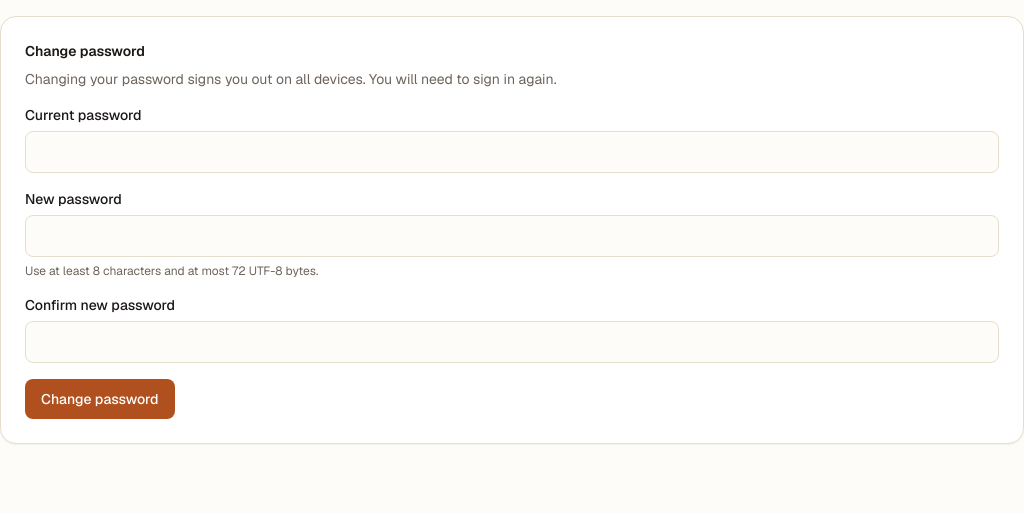
profile password form › validates before submitting (old / short)
The width and height of the screenshot is (1024, 513).
Type "old" into the password field labelled "Current password" at coordinates (512, 152), box [25, 131, 999, 173]
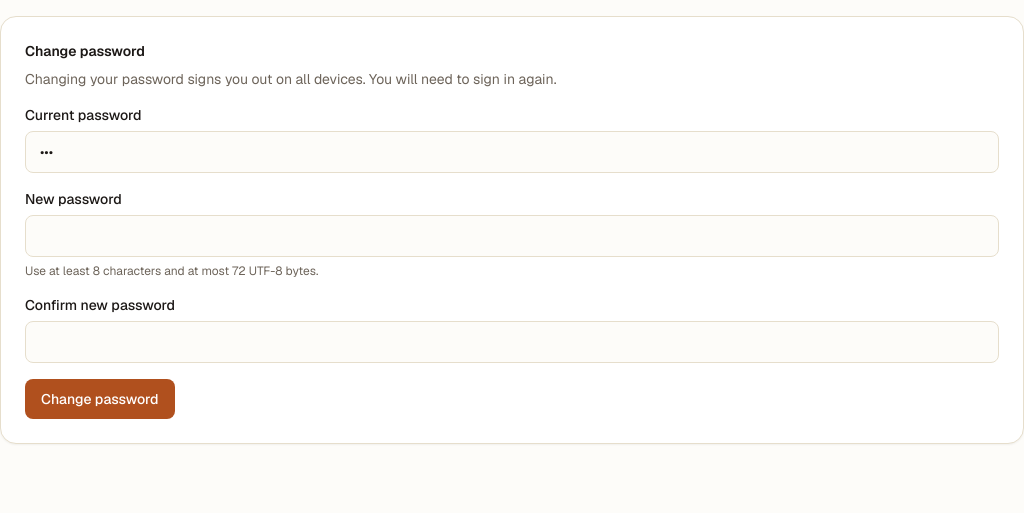
Type "short" into the password field labelled "New password" at coordinates (512, 236), box [25, 215, 999, 257]
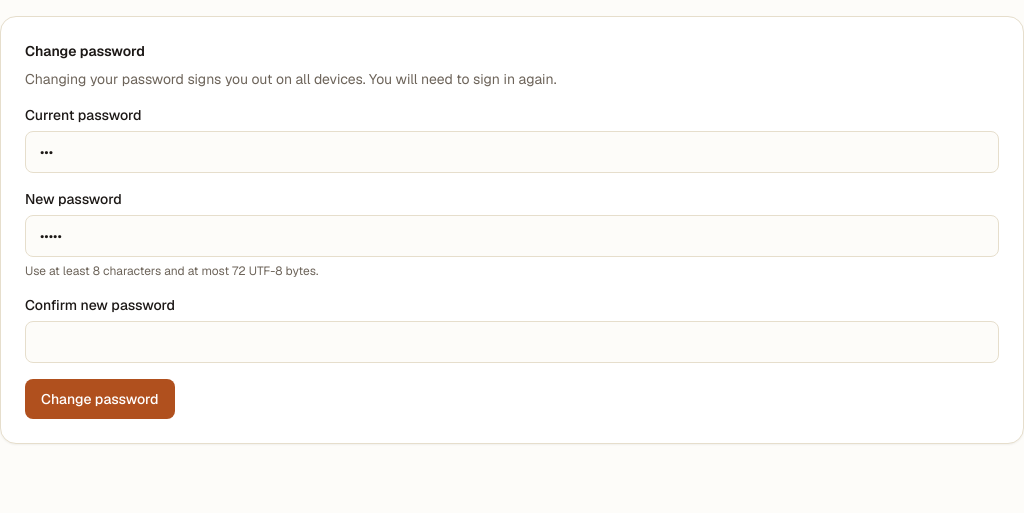
Type "short" into the password field labelled "Confirm new password" at coordinates (512, 342), box [25, 321, 999, 363]
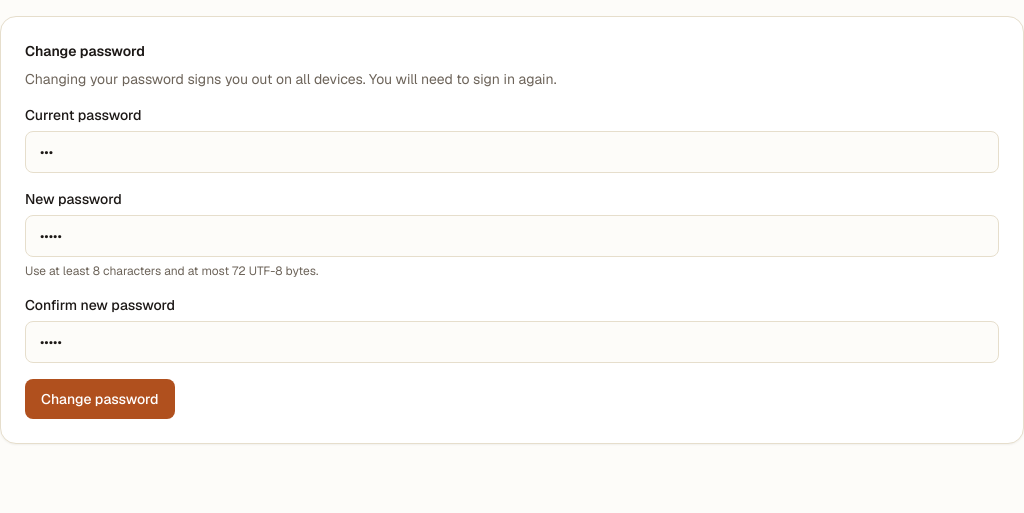
Submit the form named "Change password"
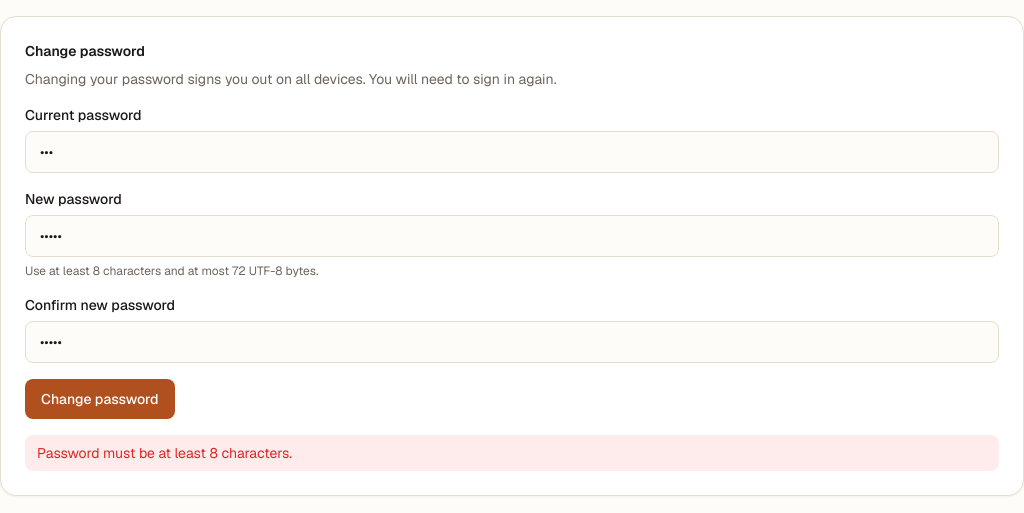
Result: the message reads "Password must be at least 8 characters." at [37, 444, 292, 462]
